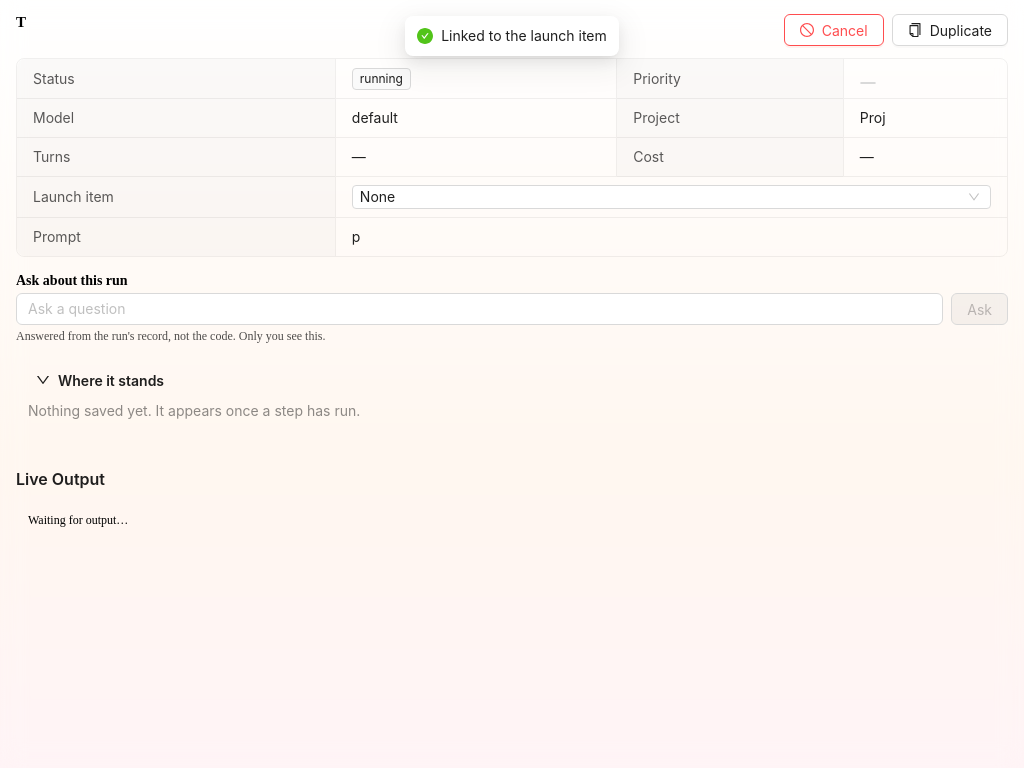
Scenario: TaskDetail: launch item and risk › the task's creator gets the select even without can_manage
Press the mouse on the element showing "None" at point(671, 197), box x1=352 y1=185 x2=991 y2=209
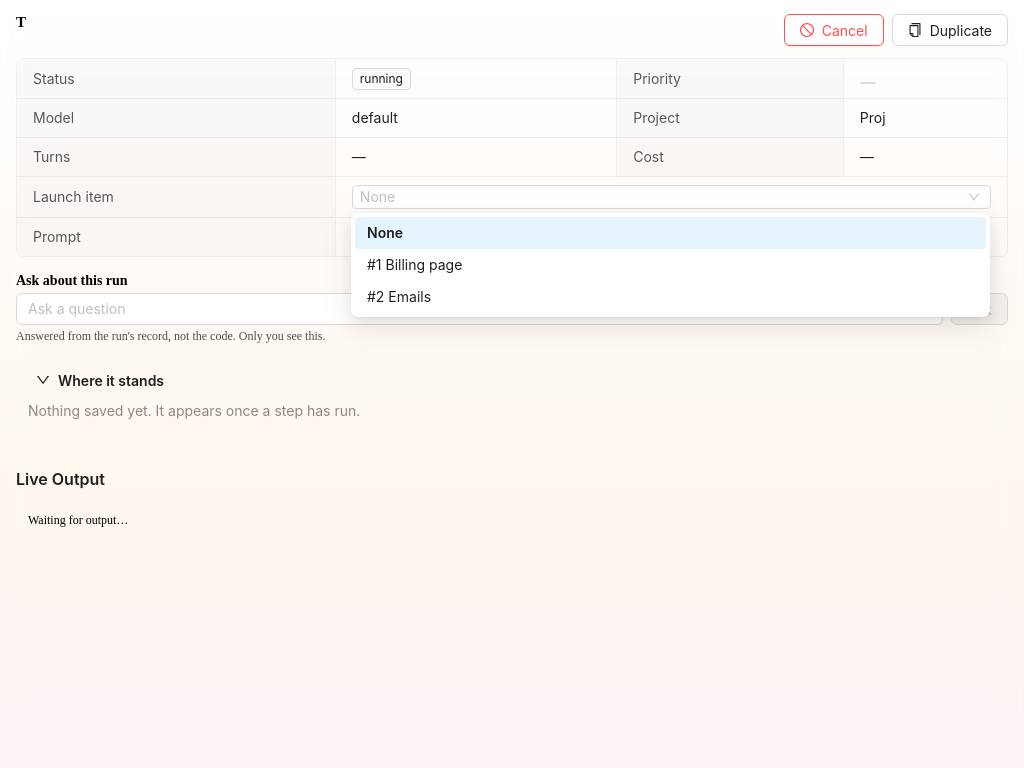
Click the element showing "#1 Billing page".
click(415, 264)  # box x1=367 y1=256 x2=462 y2=273
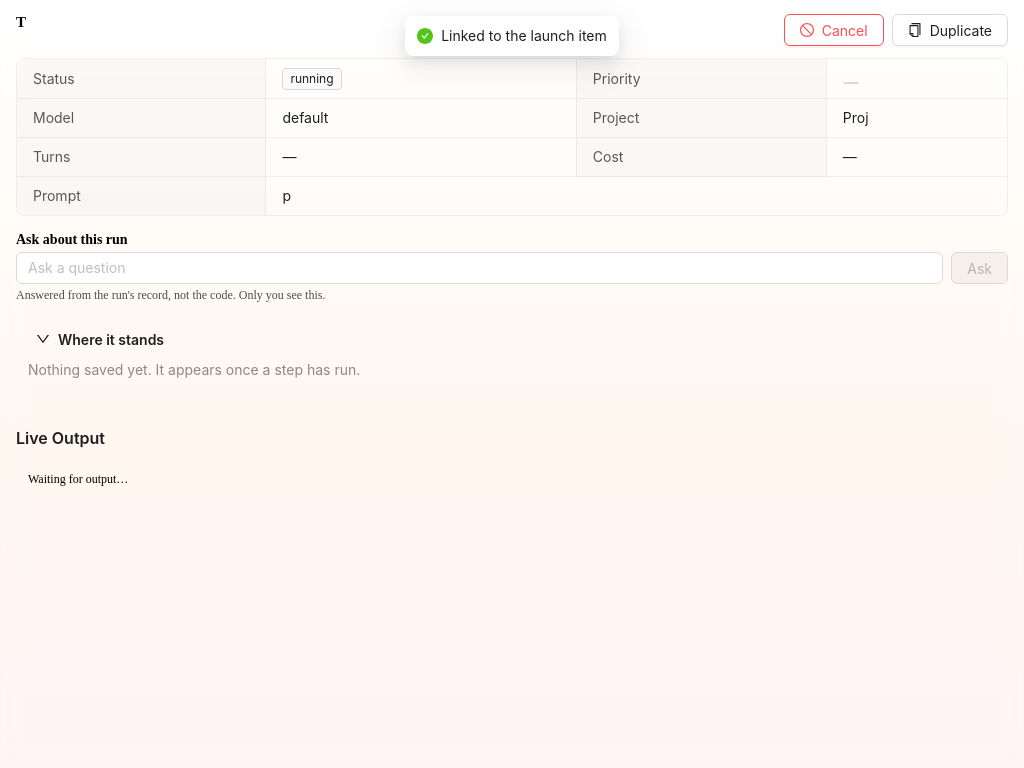
Result: the element with test id "task-launch-item" is gone
